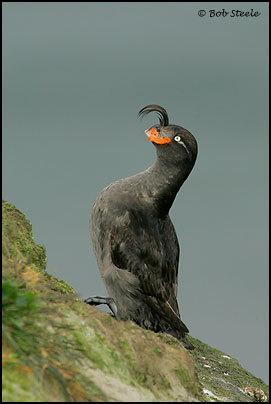005.Crested_Auklet: (91, 100, 202, 351)
